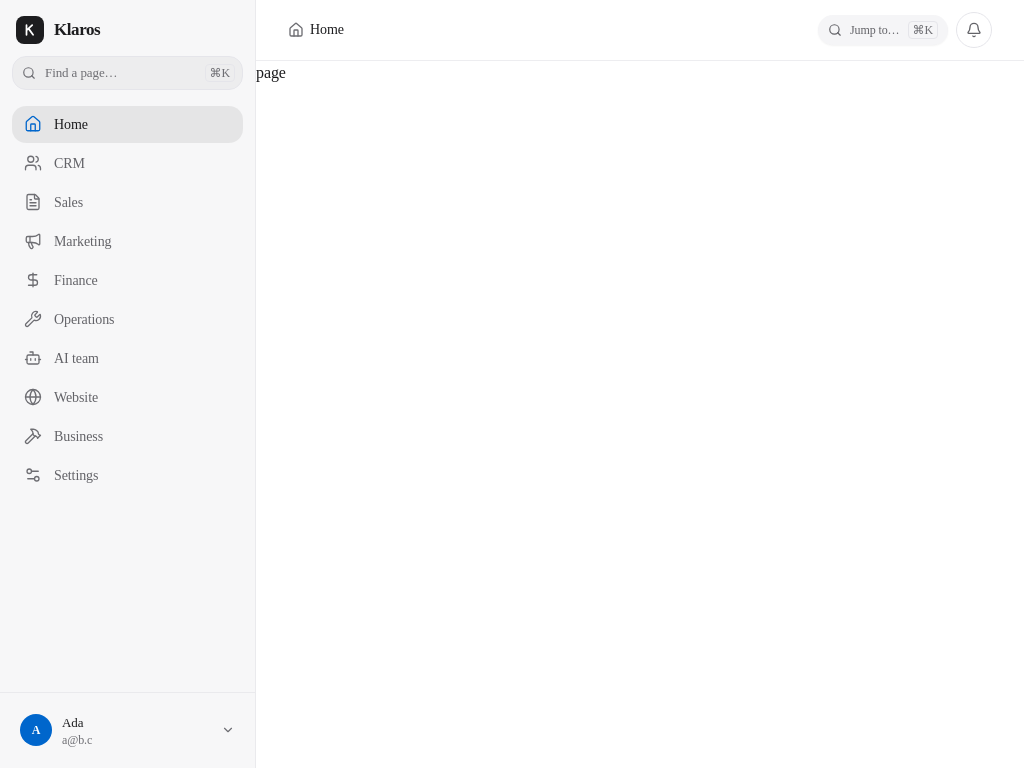
Test: AppShell navigation › finds any page by name, including ones that live in another area's tabs
Type "invoice" into the field labelled "Find a page" at (128, 73), box [12,56,243,90]
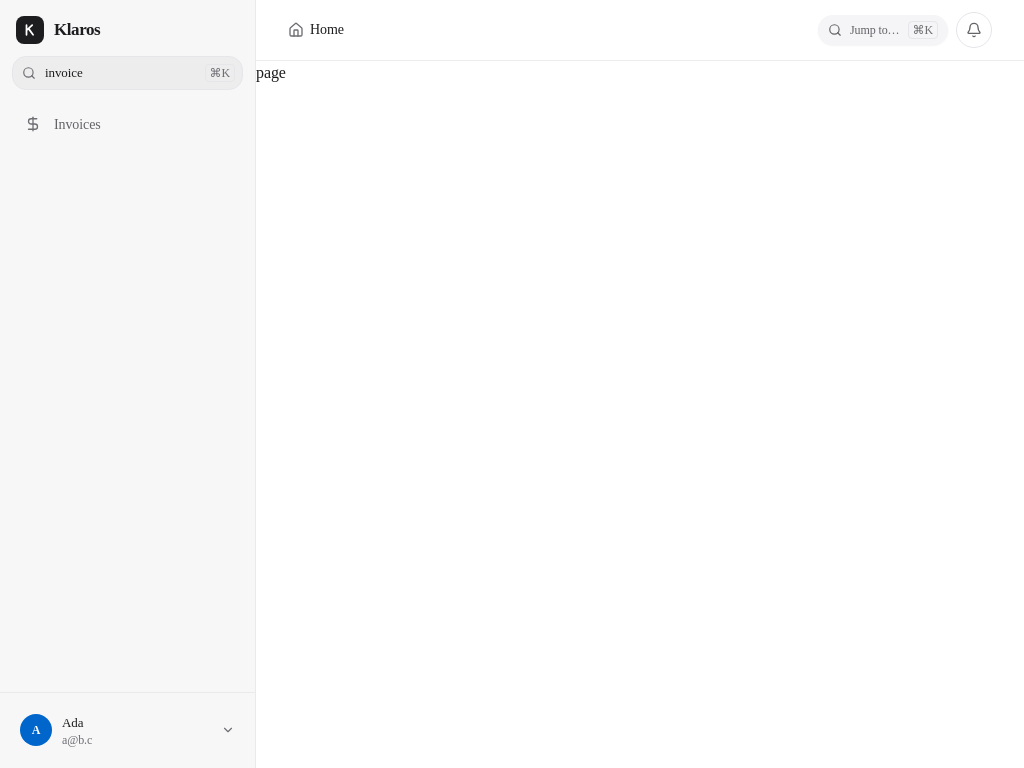
expect the link "Invoices" is shown: met, box [24,115,101,133]
Replace the text in the field named "Find a page" with "zzzz" at (128, 73), box [12,56,243,90]
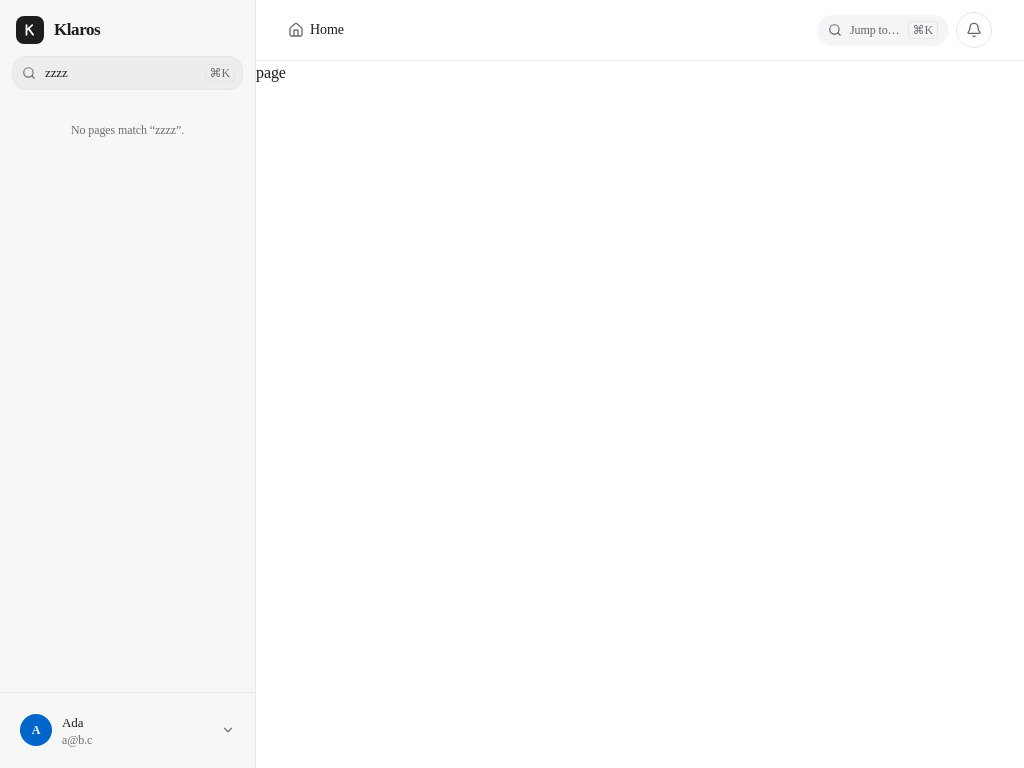
expect the text "No pages match “zzzz”." is shown: met, box [71,122,184,136]
